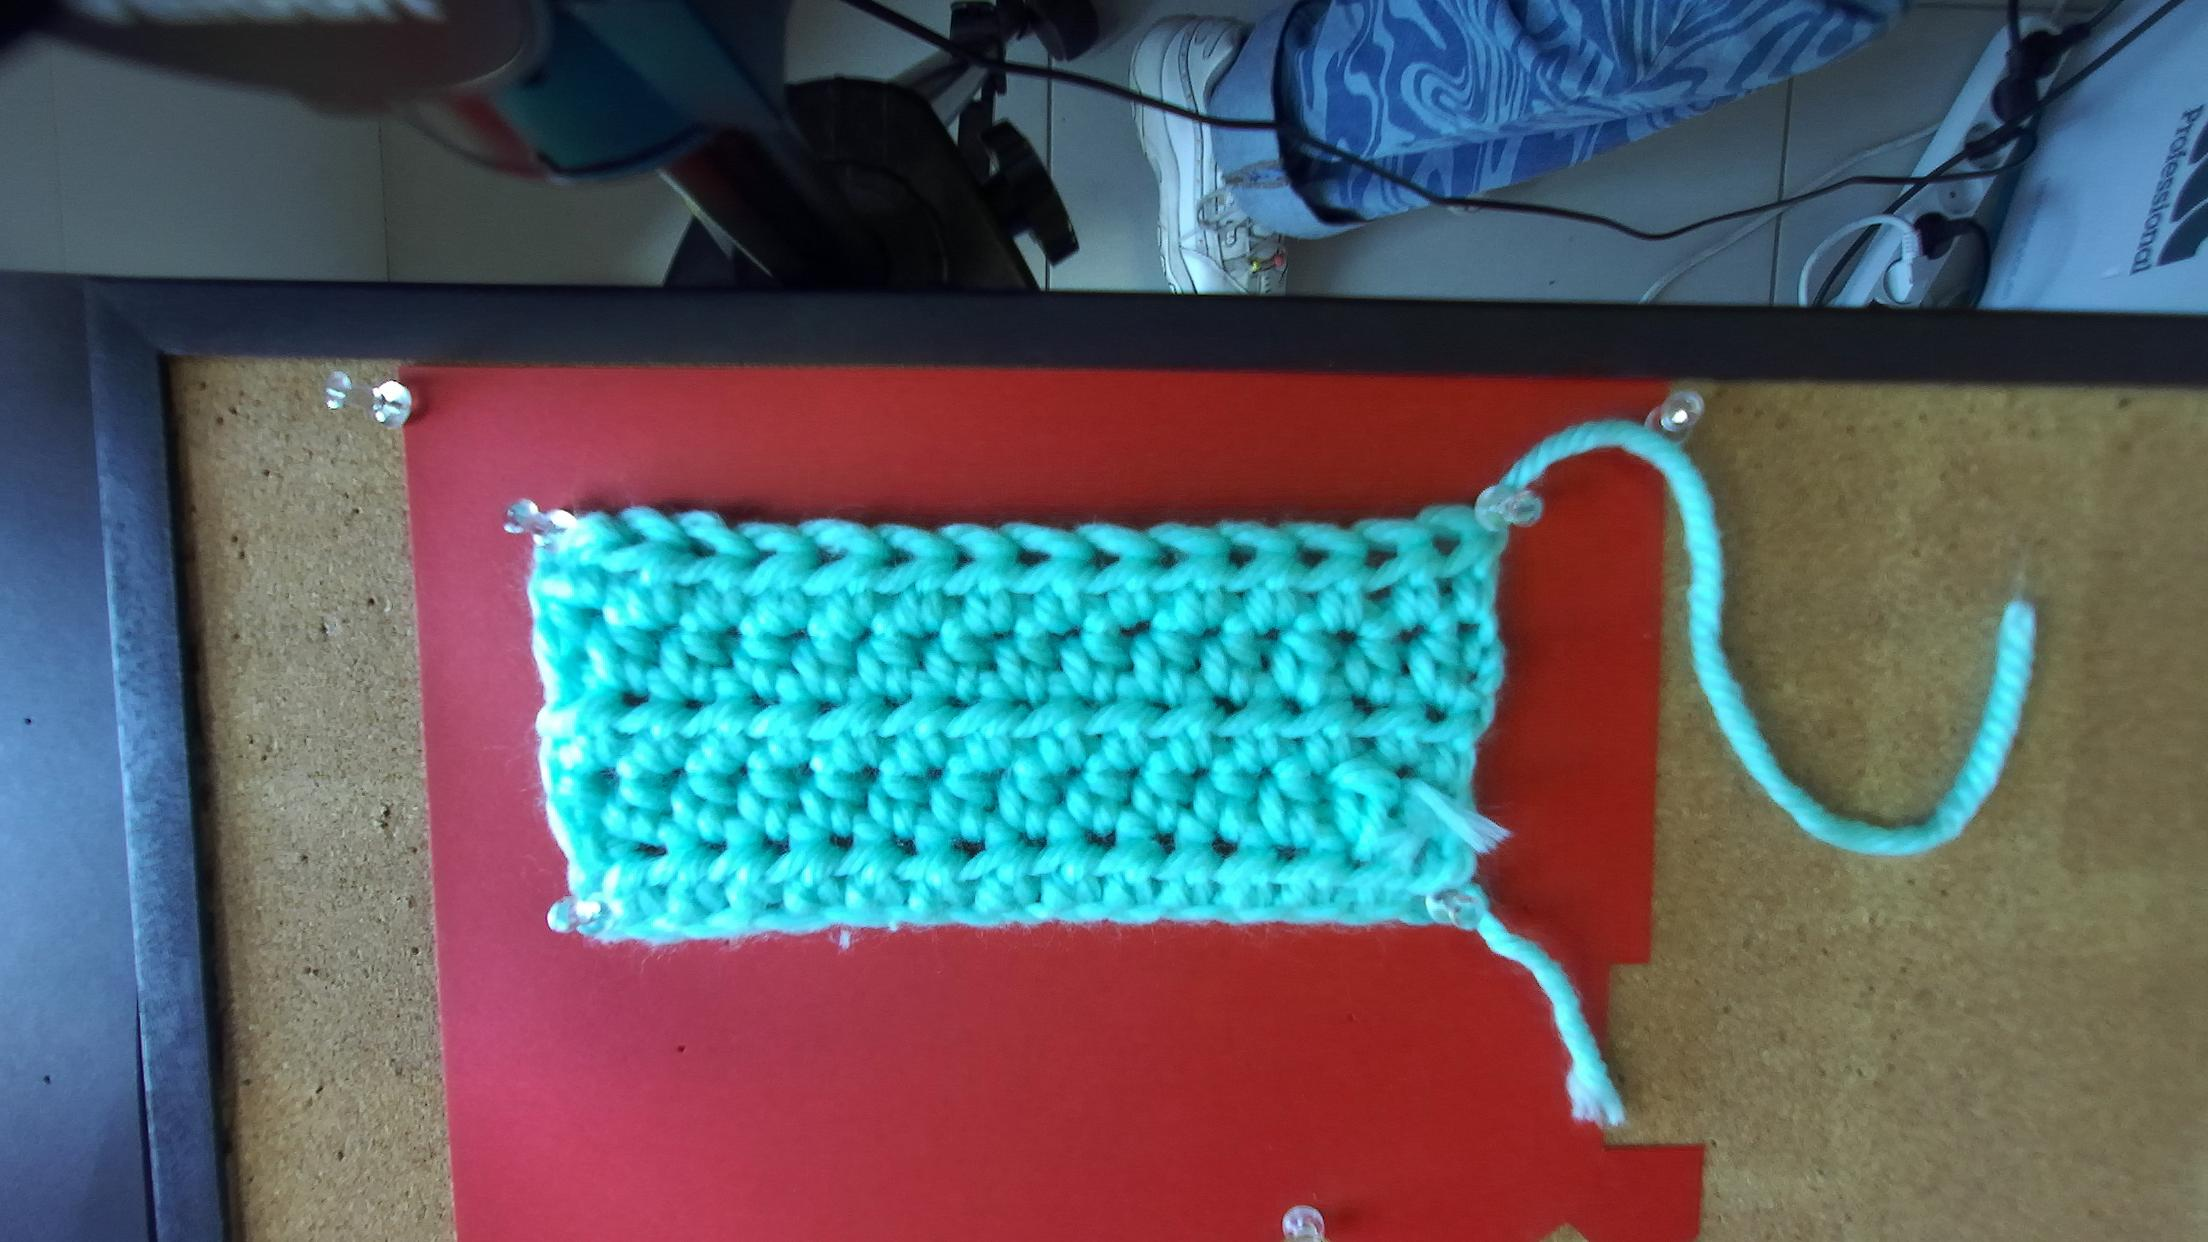hole: (1090, 544, 1124, 576), (745, 543, 781, 572), (811, 543, 851, 569), (1148, 544, 1183, 572), (1363, 546, 1401, 570), (676, 535, 716, 558), (881, 544, 916, 569), (608, 528, 646, 547), (1294, 550, 1331, 570), (1013, 547, 1049, 567), (1227, 546, 1256, 570), (1432, 537, 1463, 558), (951, 547, 978, 572)
swatch: (525, 503, 1509, 946)
